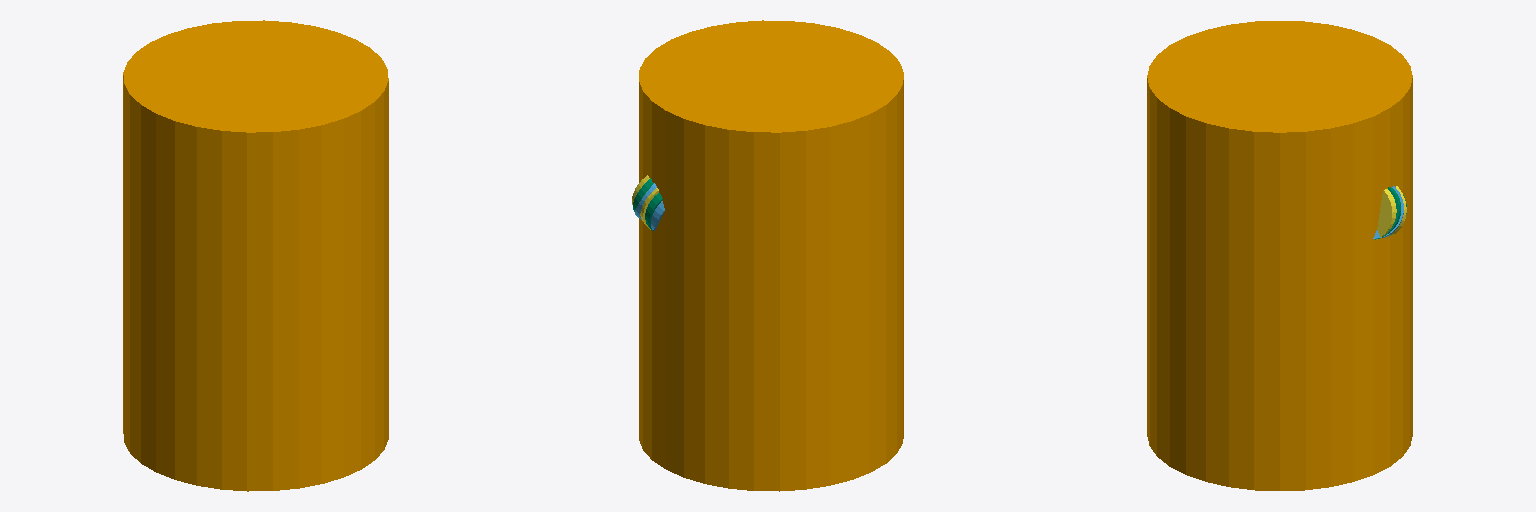
The robot description file, URDF, robot "pepe":
<?xml version="1.0"?><robot name="pepe">
	<link name="0">
		<visual>
			<geometry>
				<cylinder length="2.9780468539074367" radius="0.9999"/>
			</geometry>
		</visual>
		<collision>
			<geometry>
				<cylinder length="2.9780468539074367" radius="0.9999"/>
			</geometry>
		</collision>
		<inertial>
			<mass value="9.353939049816244"/>
			<inertia ixx="0.03" iyy="0.03" izz="0.03" ixy="0" ixz="0" iyx="0"/>
		</inertial>
	</link>
	<link name="11">
		<visual>
			<geometry>
				<cylinder length="0.1976214328167829" radius="0.22906340520814084"/>
			</geometry>
		</visual>
		<collision>
			<geometry>
				<cylinder length="0.1976214328167829" radius="0.22906340520814084"/>
			</geometry>
		</collision>
		<inertial>
			<mass value="0.032575818871364"/>
			<inertia ixx="0.03" iyy="0.03" izz="0.03" ixy="0" ixz="0" iyx="0"/>
		</inertial>
	</link>
	<link name="12">
		<visual>
			<geometry>
				<cylinder length="0.1976214328167829" radius="0.22906340520814084"/>
			</geometry>
		</visual>
		<collision>
			<geometry>
				<cylinder length="0.1976214328167829" radius="0.22906340520814084"/>
			</geometry>
		</collision>
		<inertial>
			<mass value="0.032575818871364"/>
			<inertia ixx="0.03" iyy="0.03" izz="0.03" ixy="0" ixz="0" iyx="0"/>
		</inertial>
	</link>
	<link name="13">
		<visual>
			<geometry>
				<cylinder length="0.1976214328167829" radius="0.22906340520814084"/>
			</geometry>
		</visual>
		<collision>
			<geometry>
				<cylinder length="0.1976214328167829" radius="0.22906340520814084"/>
			</geometry>
		</collision>
		<inertial>
			<mass value="0.032575818871364"/>
			<inertia ixx="0.03" iyy="0.03" izz="0.03" ixy="0" ixz="0" iyx="0"/>
		</inertial>
	</link>
	<joint name="11_to_0" type="revolute">
		<parent link="0"/>
		<child link="11"/>
		<axis xyz="0 1 0"/>
		<limit effort="1" upper="-3.1415" lower="3.1415" velocity="1"/>
		<origin rpy="5.699888133233127 5.335596817349695 3.7852605399878314" xyz="0.5149674791579286 0.7074323325700077 0.6274322696879009"/>
	</joint>
	<joint name="12_to_0" type="revolute">
		<parent link="0"/>
		<child link="12"/>
		<axis xyz="0 1 0"/>
		<limit effort="1" upper="-3.1415" lower="3.1415" velocity="1"/>
		<origin rpy="8.549832199849691 5.335596817349695 3.7852605399878314" xyz="0.5149674791579286 0.7074323325700077 0.6274322696879009"/>
	</joint>
	<joint name="13_to_0" type="revolute">
		<parent link="0"/>
		<child link="13"/>
		<axis xyz="0 1 0"/>
		<limit effort="1" upper="-3.1415" lower="3.1415" velocity="1"/>
		<origin rpy="11.399776266466255 5.335596817349695 3.7852605399878314" xyz="0.5149674791579286 0.7074323325700077 0.6274322696879009"/>
	</joint>
</robot>

--- What the picture shows (computed from the rendered views, not written in the file) ---
The picture shows the robot from 3 angles, left to right: view 1: azimuth 30°, elevation 25°; view 2: azimuth 150°, elevation 25°; view 3: azimuth 270°, elevation 25°; orthographic projection.
Model pepe with 4 links and 3 joints (3 revolute), rooted at 0, posed every joint at zero.
Visible links, largest first — view 1: 0; view 2: 0; view 3: 0, 13.
Boxes of the visible links, bbox=[...] form: 0: bbox=[123, 20, 388, 491]; 0: bbox=[639, 20, 903, 491]; 0: bbox=[1147, 21, 1412, 490]; 13: bbox=[1376, 186, 1406, 239].
Size in the robot's own frame: 2 by 2 by 2.98 metres.
Geometry: primitives only (box / cylinder / sphere), no mesh files.
